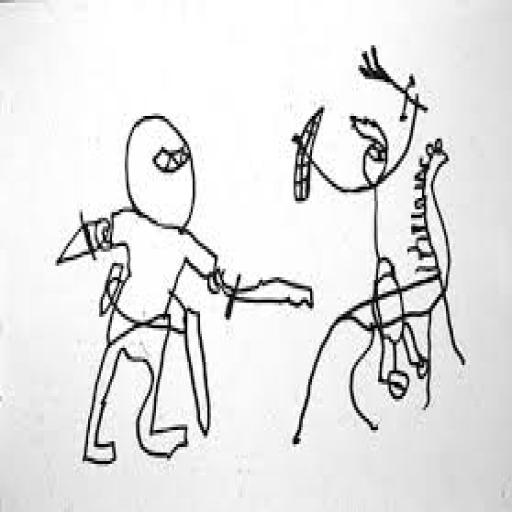person: (49, 102, 296, 497), (289, 49, 479, 480)
